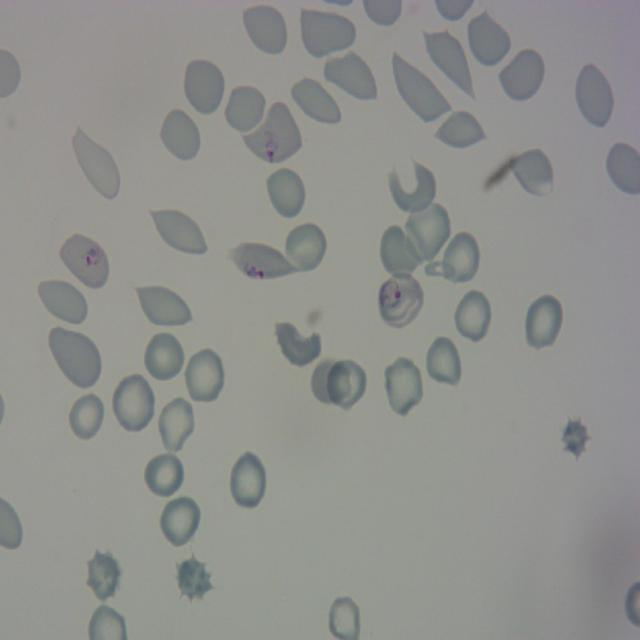leukocyte: (389, 51, 456, 126), (420, 28, 475, 100), (74, 126, 122, 203), (47, 325, 101, 390), (402, 198, 453, 265), (322, 48, 378, 106), (297, 8, 359, 59), (110, 370, 157, 436), (34, 275, 91, 328), (573, 61, 616, 130), (151, 209, 211, 258), (465, 9, 513, 69), (272, 314, 324, 369), (240, 1, 290, 58), (290, 76, 342, 130), (181, 56, 226, 118), (382, 355, 425, 419), (522, 292, 565, 354), (227, 449, 269, 512), (183, 347, 227, 407), (439, 228, 482, 288), (136, 284, 192, 330), (378, 222, 422, 280), (156, 394, 197, 456), (158, 493, 203, 549), (158, 106, 202, 163), (507, 148, 555, 200), (452, 287, 494, 346), (264, 164, 308, 220), (500, 46, 545, 98), (388, 162, 434, 212), (224, 82, 268, 134), (143, 449, 186, 502), (432, 109, 488, 149), (326, 360, 369, 412), (144, 329, 186, 382), (283, 222, 327, 272), (83, 550, 122, 604), (176, 555, 214, 604), (68, 391, 105, 441), (421, 337, 460, 383), (310, 357, 346, 406), (560, 415, 591, 460)
red blood cell: (244, 100, 304, 165), (374, 268, 425, 330), (59, 232, 110, 292), (229, 241, 295, 282)
